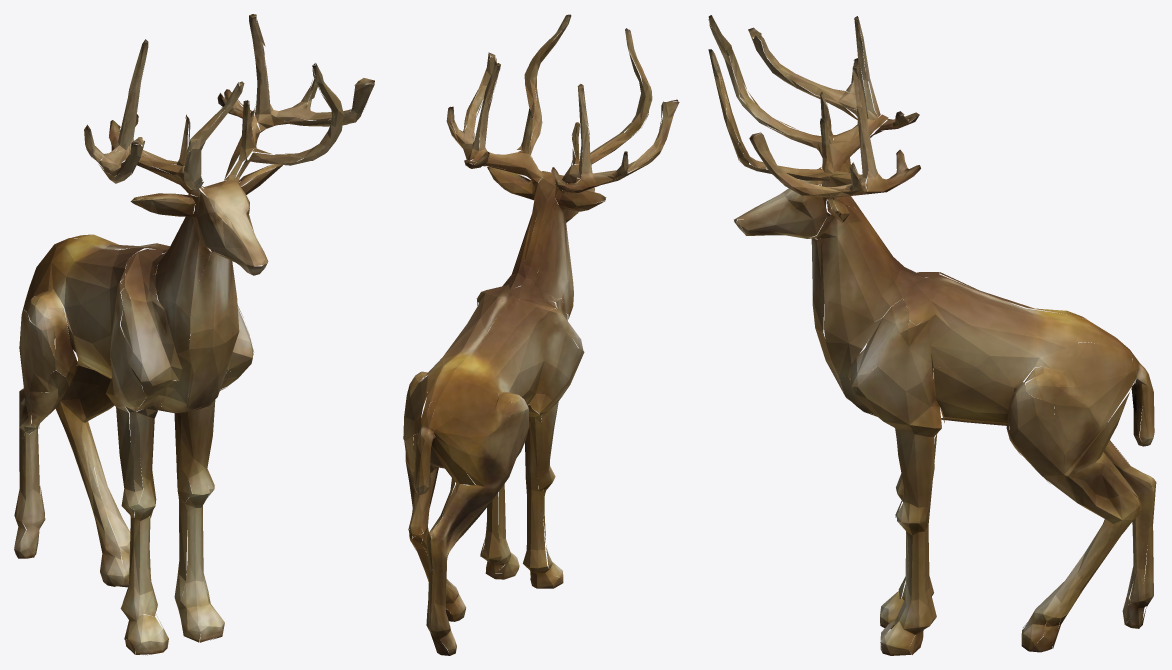
Rendered from m-cerf.glb.
3 views of the same model, side by side, from view 1: azimuth 30°, elevation 25°; view 2: azimuth 150°, elevation 25°; view 3: azimuth 270°, elevation 25° (orthographic). The views are drawn at different scales.
Parts seen in each view (by area): view 1: geometry_0; view 2: geometry_0; view 3: geometry_0.
Boxes of the visible parts, x1,y1,x2,y2 form: geometry_0: (14, 14, 374, 655); geometry_0: (403, 14, 679, 655); geometry_0: (708, 15, 1156, 655).
Size of the model in its own units: 0.405 by 1 by 0.6722.
1 material, 1 textured.
